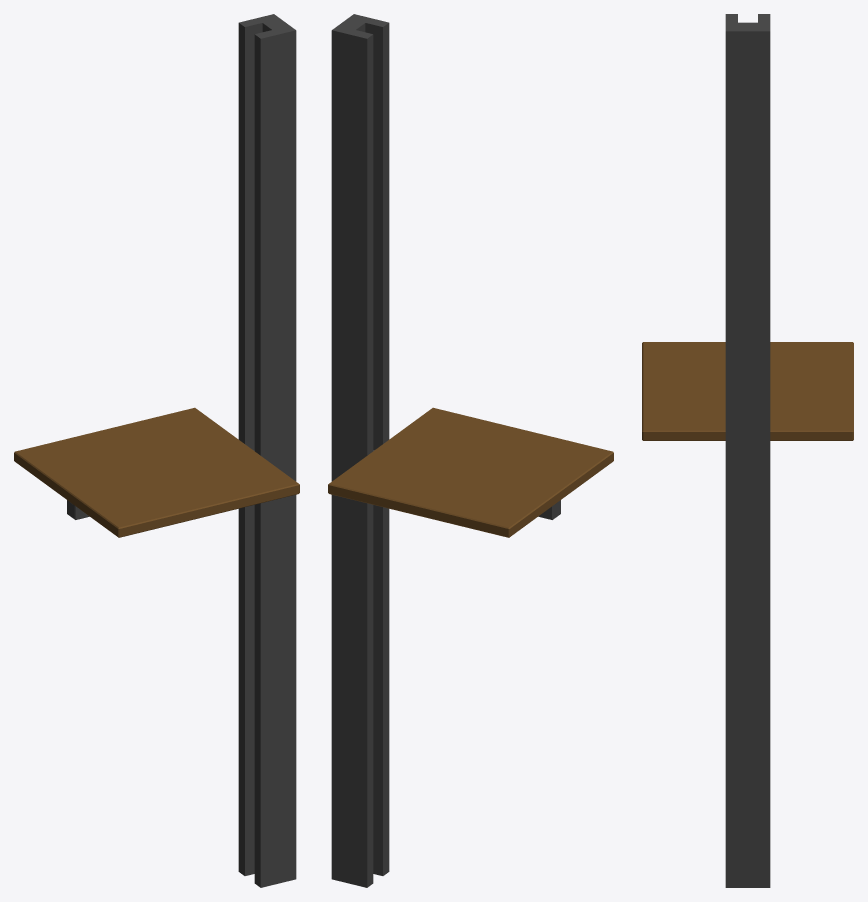
Rendered from Elevator2.fbx.
The picture shows the model from 3 angles, left to right: view 1: azimuth 30°, elevation 25°; view 2: azimuth 150°, elevation 25°; view 3: azimuth 270°, elevation 25°; orthographic projection.
Parts seen in each view (by area): view 1: Elevator_Beam, Elevator_Plate; view 2: Elevator_Beam, Elevator_Plate; view 3: Elevator_Beam, Elevator_Plate.
Part boxes in pixels (x1,y1,x2,y2): Elevator_Beam: (238, 14, 296, 887); Elevator_Plate: (14, 407, 299, 537); Elevator_Beam: (331, 14, 389, 887); Elevator_Plate: (328, 407, 613, 537); Elevator_Beam: (725, 14, 770, 887); Elevator_Plate: (642, 342, 853, 440).
Bounding box in the file's own units: 241 × 893 × 200.
